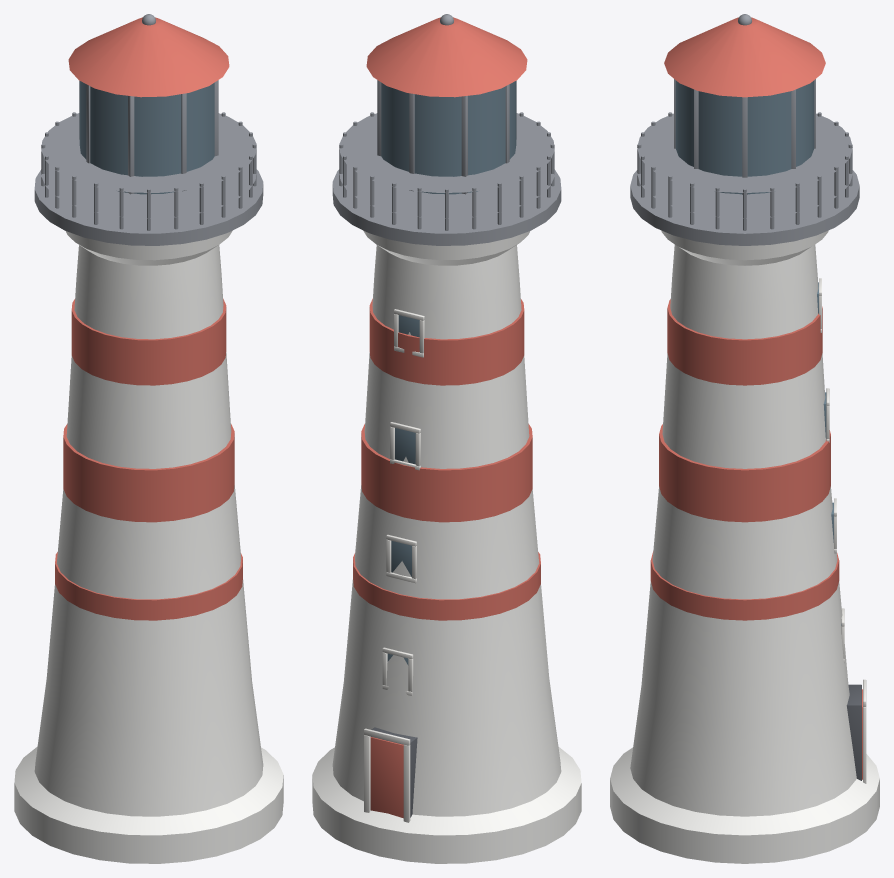
Rendered from th45_leuchtturm.glb.
3 views of the same model, side by side, from view 1: azimuth 30°, elevation 25°; view 2: azimuth 150°, elevation 25°; view 3: azimuth 270°, elevation 25° (orthographic).
Visible parts, largest first — view 1: Schaft, Cylinder.029, Cylinder.002, Cone, Cylinder.003, Riegel, Cylinder.004, Riegel.001, Cylinder.001, Cube.031; view 2: Schaft, Cylinder.029, Cylinder.002, Cone, Cylinder.003, Riegel, Cylinder.004, Riegel.001, Cylinder.001, Cube.001, Cube.016, Cube.004 (+4 smaller); view 3: Schaft, Cylinder.029, Cylinder.002, Cone, Cylinder.003, Cylinder.004, Riegel, Riegel.001, Cylinder.001, Cube.
Boxes of the visible parts, left/top/right/bottom form: Schaft: left=14, top=230, right=283, bottom=863; Cylinder.029: left=79, top=81, right=214, bottom=194; Cylinder.002: left=63, top=424, right=234, bottom=522; Cone: left=68, top=17, right=229, bottom=97; Cylinder.003: left=71, top=298, right=226, bottom=385; Riegel: left=41, top=113, right=256, bottom=192; Cylinder.004: left=34, top=169, right=263, bottom=245; Riegel.001: left=41, top=164, right=256, bottom=218; Cylinder.001: left=55, top=552, right=242, bottom=620; Cube.031: left=128, top=96, right=134, bottom=194; Schaft: left=312, top=230, right=581, bottom=863; Cylinder.029: left=381, top=81, right=516, bottom=194; Cylinder.002: left=361, top=424, right=532, bottom=522; Cone: left=366, top=17, right=527, bottom=97; Cylinder.003: left=369, top=298, right=524, bottom=385; Riegel: left=339, top=113, right=554, bottom=192; Cylinder.004: left=332, top=169, right=561, bottom=245; Riegel.001: left=339, top=164, right=554, bottom=218; Cylinder.001: left=353, top=552, right=540, bottom=620; Cube.001: left=370, top=737, right=403, bottom=818; Cube.016: left=395, top=428, right=415, bottom=464; Cube.004: left=403, top=745, right=410, bottom=822; Schaft: left=610, top=230, right=879, bottom=863; Cylinder.029: left=675, top=80, right=814, bottom=194; Cylinder.002: left=659, top=424, right=830, bottom=522; Cone: left=664, top=17, right=825, bottom=97; Cylinder.003: left=667, top=299, right=822, bottom=385; Cylinder.004: left=630, top=170, right=859, bottom=245; Riegel: left=637, top=113, right=852, bottom=192; Riegel.001: left=637, top=164, right=852, bottom=218; Cylinder.001: left=650, top=551, right=839, bottom=620; Cube: left=846, top=684, right=861, bottom=780.
Size of the model in its own units: 6 by 19.44 by 6.
